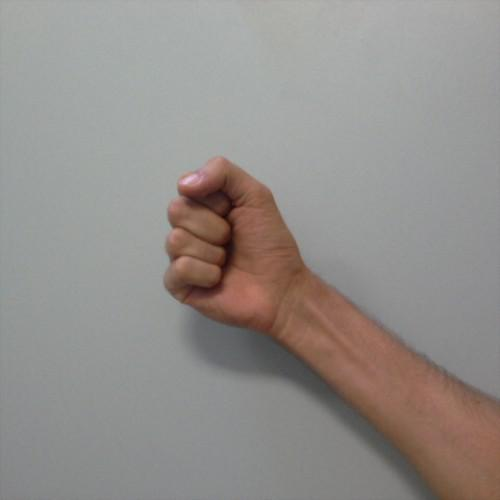rock: (158, 155, 308, 330)
